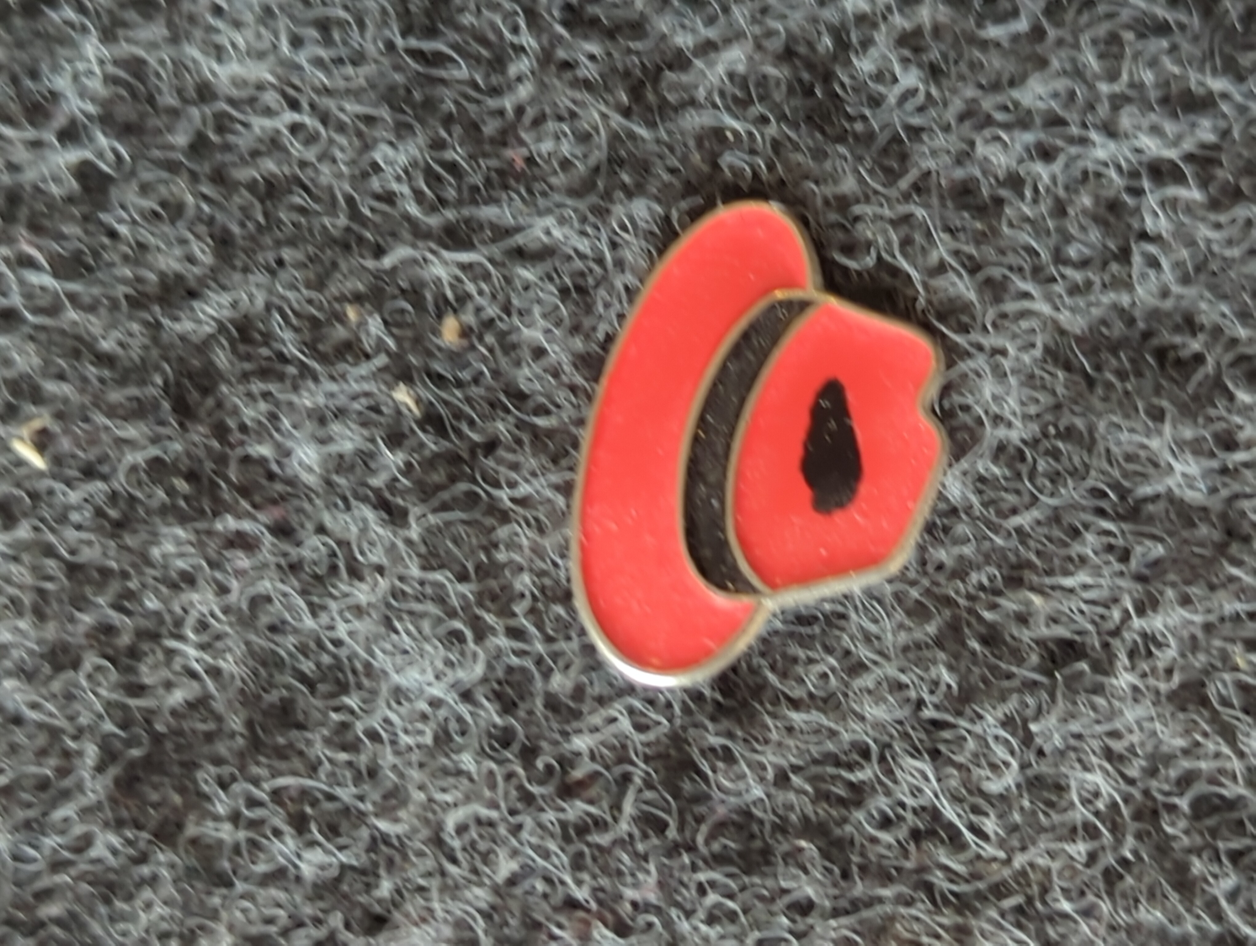Red-Hat: (446, 137, 1089, 766)
Scratch: (786, 334, 902, 539)
